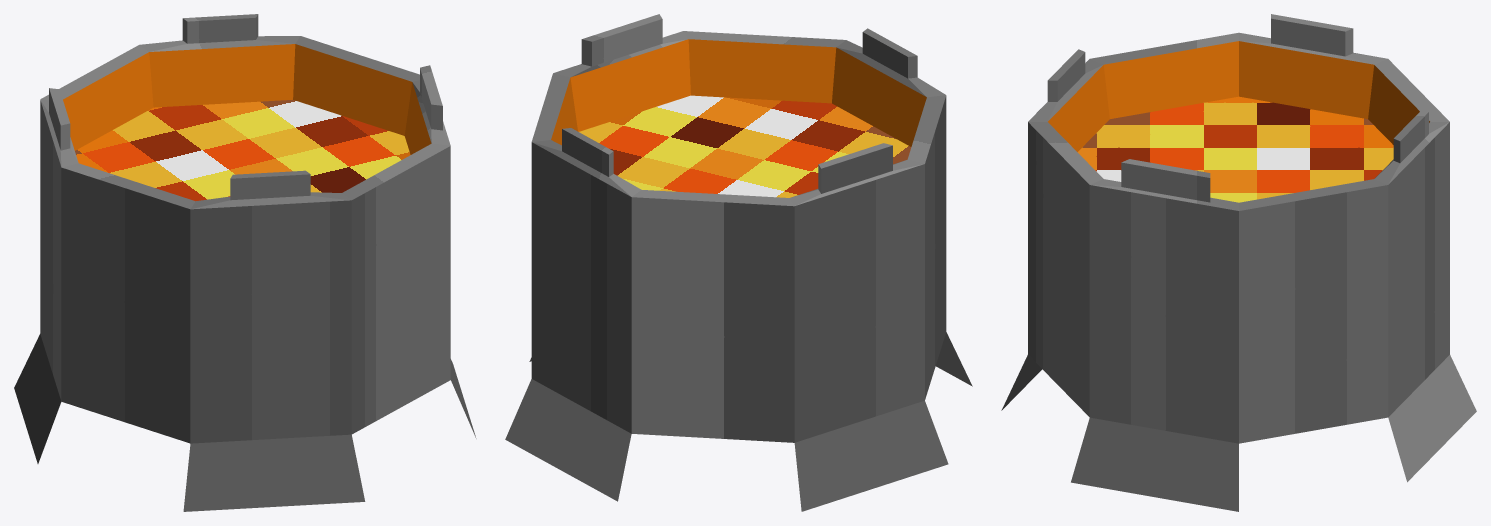
The model's file is Lab_burner_307x01.gltf.
3 views of the same model, side by side, from view 1: azimuth 30°, elevation 25°; view 2: azimuth 150°, elevation 25°; view 3: azimuth 270°, elevation 25° (orthographic).
Parts seen in each view (by area): view 1: Lab_burner_307x01; view 2: Lab_burner_307x01; view 3: Lab_burner_307x01.
Boxes of the visible parts, x1=… form: Lab_burner_307x01: x1=14, y1=14, x2=476, y2=511; Lab_burner_307x01: x1=505, y1=14, x2=972, y2=511; Lab_burner_307x01: x1=1001, y1=14, x2=1476, y2=511.
Bounding box in the file's own units: 0.7557 × 0.5534 × 0.7557.
Materials: 1 (1 with a texture image).
